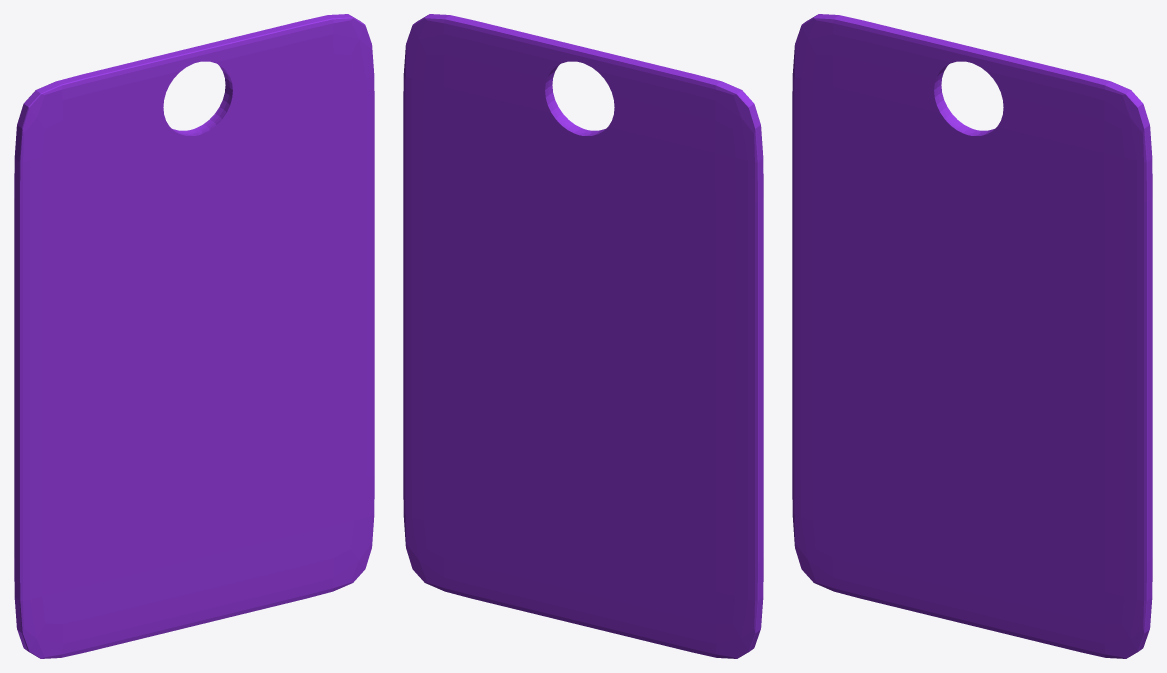
File: blank lanyard.gltf
The picture shows the model from 3 angles, left to right: view 1: azimuth 30°, elevation 25°; view 2: azimuth 150°, elevation 25°; view 3: azimuth 330°, elevation 25°; orthographic projection.
Visible parts, largest first — view 1: Cube; view 2: Cube; view 3: Cube.
Boxes of the visible parts, x1=… form: Cube: x1=14, y1=14, x2=374, y2=658; Cube: x1=403, y1=14, x2=763, y2=658; Cube: x1=792, y1=14, x2=1152, y2=658.
Bounding box in the file's own units: 3.9 × 6.03 × 0.1418.
